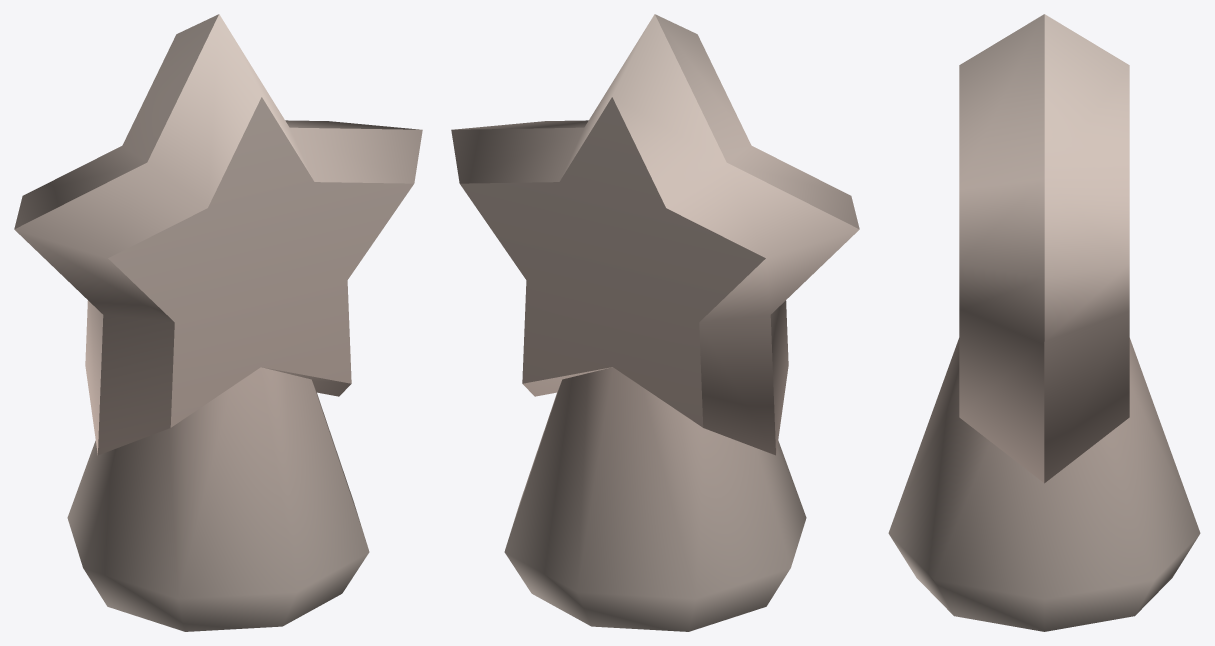
The model's file is christmas-ornament-top.glb.
The picture shows the model from 3 angles, left to right: view 1: azimuth 30°, elevation 25°; view 2: azimuth 150°, elevation 25°; view 3: azimuth 270°, elevation 25°; orthographic projection.
Parts seen in each view (by area): view 1: christmas-ornament-top; view 2: christmas-ornament-top; view 3: christmas-ornament-top.
Boxes of the visible parts, x1,y1,x2,y2 form: christmas-ornament-top: (14,14,422,631); christmas-ornament-top: (451,14,859,631); christmas-ornament-top: (888,14,1200,631).
Bounding box in the file's own units: 0.2871 × 0.3798 × 0.1904.
